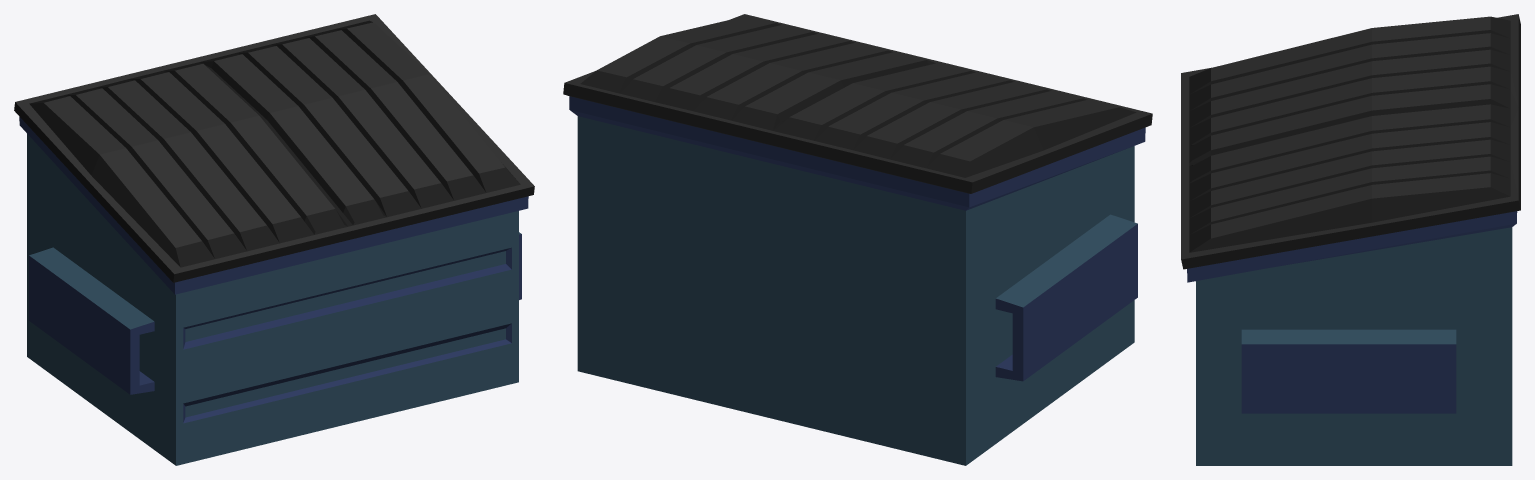
The model's file is Dumpster_CLOSED.fbx.
The picture shows the model from 3 angles, left to right: view 1: azimuth 30°, elevation 25°; view 2: azimuth 150°, elevation 25°; view 3: azimuth 270°, elevation 25°; orthographic projection. The views are drawn at different scales.
Visible parts, largest first — view 1: Dumpster_Body, Dumpster_Lid, Dumpster_Handles; view 2: Dumpster_Body, Dumpster_Lid, Dumpster_Handles; view 3: Dumpster_Lid, Dumpster_Body, Dumpster_Handles.
Part boxes in pixels (x1,y1,x2,y2): Dumpster_Body: (19,117,528,465); Dumpster_Lid: (14,14,534,282); Dumpster_Handles: (29,232,521,394); Dumpster_Body: (569,96,1145,465); Dumpster_Lid: (563,14,1152,193); Dumpster_Handles: (995,214,1137,381); Dumpster_Lid: (1181,14,1520,269); Dumpster_Body: (1187,211,1517,465); Dumpster_Handles: (1241,329,1456,413).
Size of the model in its own units: 573 by 364 by 406.
